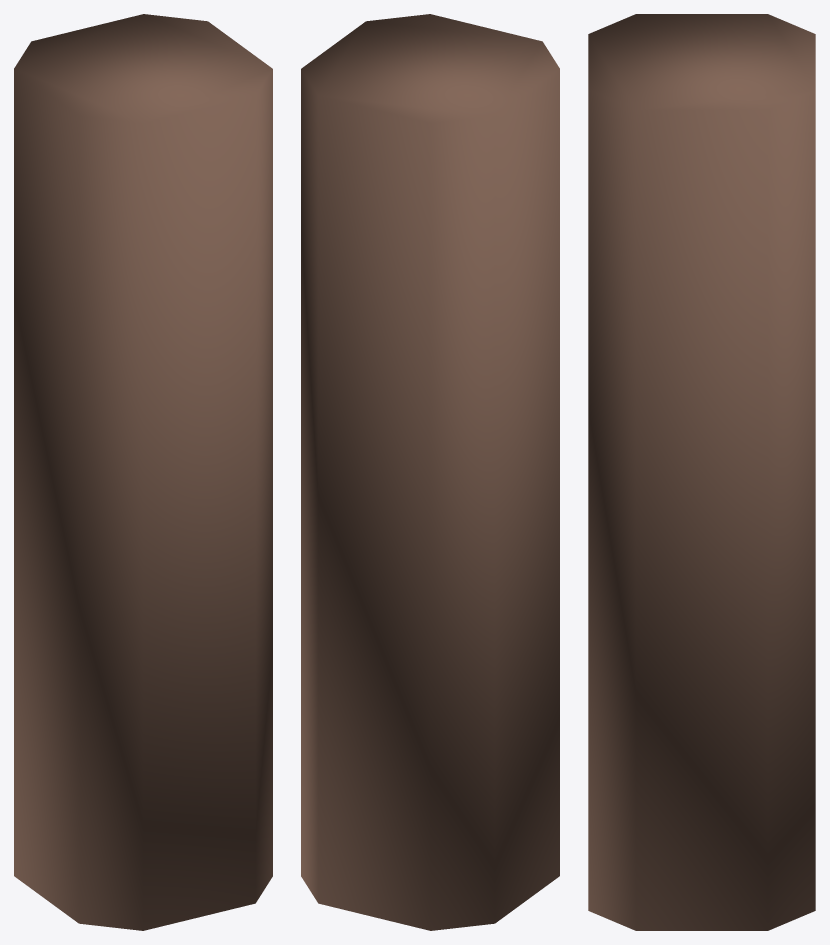
Rendered from PillarMesh01.fbx.
3 views of the same model, side by side, from view 1: azimuth 30°, elevation 25°; view 2: azimuth 150°, elevation 25°; view 3: azimuth 270°, elevation 25° (orthographic).
Parts seen in each view (by area): view 1: Pillar01_low; view 2: Pillar01_low; view 3: Pillar01_low.
Part boxes in pixels (x1=…): Pillar01_low: x1=14, y1=14, x2=272, y2=930; Pillar01_low: x1=301, y1=14, x2=559, y2=930; Pillar01_low: x1=588, y1=14, x2=815, y2=930.
Size of the model in its own units: 1.26 by 5 by 1.26.
